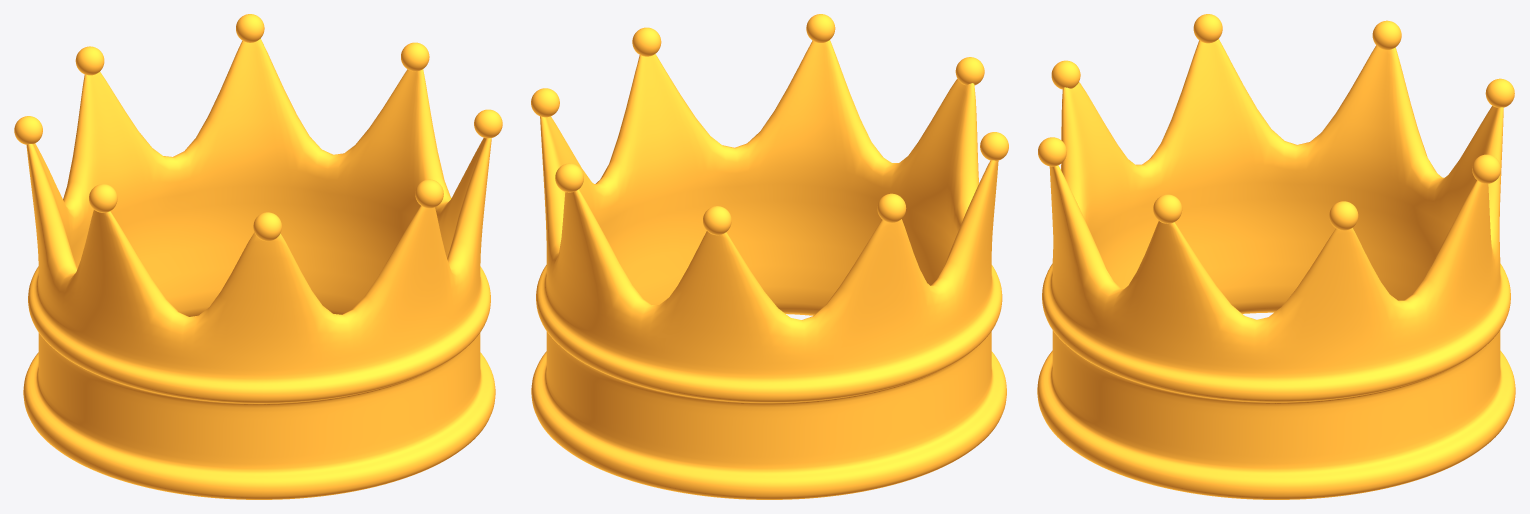
The model's file is crown.fbx.
The picture shows the model from 3 angles, left to right: view 1: azimuth 30°, elevation 25°; view 2: azimuth 150°, elevation 25°; view 3: azimuth 270°, elevation 25°; orthographic projection.
Parts seen in each view (by area): view 1: Cylinder; view 2: Cylinder; view 3: Cylinder.
Part boxes in pixels (left/top/right/bottom): Cylinder: left=14, top=14, right=502, bottom=499; Cylinder: left=531, top=14, right=1008, bottom=499; Cylinder: left=1037, top=14, right=1515, bottom=499.
Bounding box in the file's own units: 212 × 143 × 212.
